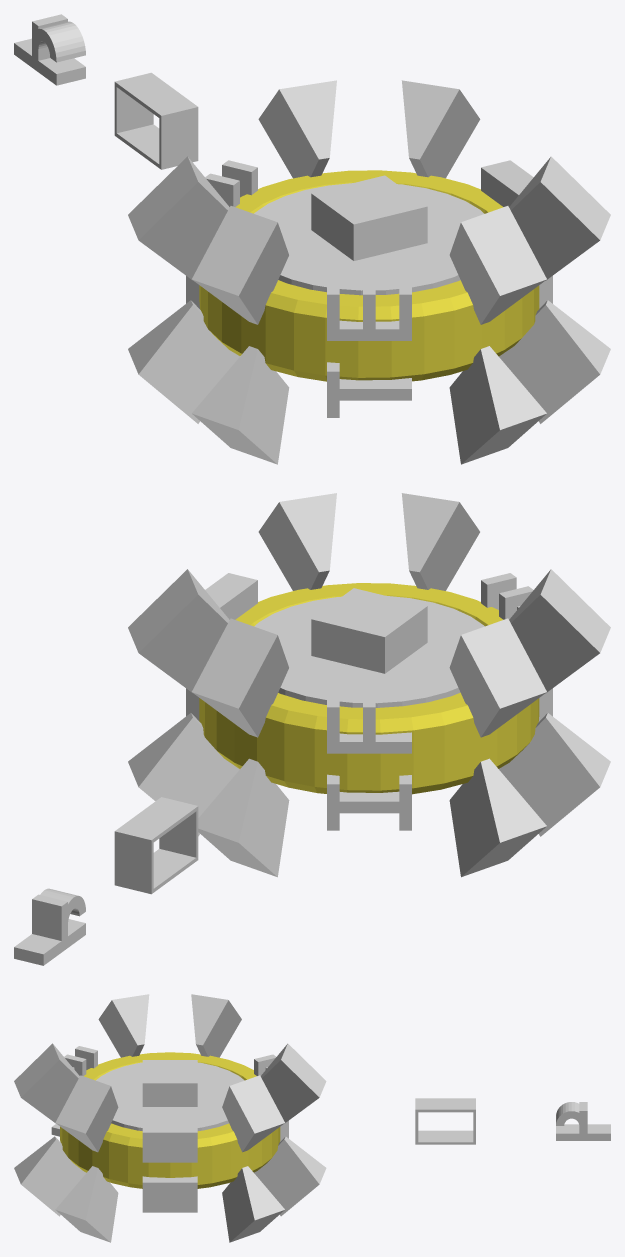
Rendered from Ring1.glb.
3 renders of one model, top to bottom at view 1: azimuth 30°, elevation 25°; view 2: azimuth 150°, elevation 25°; view 3: azimuth 270°, elevation 25°, orthographic. The views are drawn at different scales.
Visible parts, largest first — view 1: Notch, Notch.001, Cylinder, Cylinder.001, Cube.005, Letter Frame, E, T, F, Cube, Bump Section, Vertical Section (+1 smaller); view 2: Notch, Notch.001, Cylinder, Cylinder.001, Cube.005, Letter Frame, F, I, E, Horizontal section, Vertical Section, Cube (+1 smaller); view 3: Notch, Notch.001, Cylinder, Cylinder.001, Cube.005, Cube, Cube.001, Letter Frame, Vertical Section, E, S, Bump Section (+1 smaller).
Boxes of the visible parts, x1,y1,x2,y2 form: Notch: [128, 80, 610, 324]; Notch.001: [128, 300, 610, 464]; Cylinder: [199, 170, 539, 381]; Cylinder.001: [254, 183, 484, 295]; Cube.005: [311, 175, 427, 260]; Letter Frame: [114, 72, 198, 169]; E: [327, 280, 411, 340]; T: [327, 362, 411, 417]; F: [205, 160, 257, 206]; Cube: [481, 160, 533, 206]; Bump Section: [32, 21, 85, 62]; Vertical Section: [14, 38, 85, 85]; Notch: [128, 493, 610, 737]; Notch.001: [128, 713, 610, 877]; Cylinder: [199, 583, 539, 794]; Cylinder.001: [254, 595, 484, 707]; Cube.005: [311, 588, 427, 673]; Letter Frame: [114, 797, 198, 894]; F: [327, 693, 411, 753]; I: [327, 774, 411, 830]; E: [481, 573, 533, 619]; Horizontal section: [32, 894, 67, 952]; Vertical Section: [14, 919, 85, 965]; Cube: [205, 573, 257, 619]; Notch: [14, 994, 326, 1152]; Notch.001: [14, 1136, 326, 1242]; Cylinder: [60, 1052, 280, 1188]; Cylinder.001: [96, 1062, 244, 1130]; Cube.005: [142, 1060, 197, 1106]; Cube: [142, 1123, 197, 1162]; Cube.001: [142, 1176, 197, 1212]; Letter Frame: [415, 1098, 475, 1144]; Vertical Section: [556, 1124, 610, 1140]; E: [64, 1046, 97, 1075]; S: [142, 1133, 197, 1162]; Bump Section: [556, 1102, 581, 1125].
Bounding box in the file's own units: 10.32 × 6.28 × 21.67.
